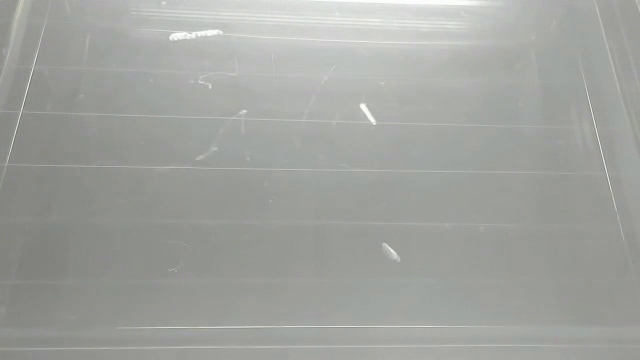alpha: (166, 25, 225, 44), (355, 99, 381, 130), (380, 239, 402, 265)
